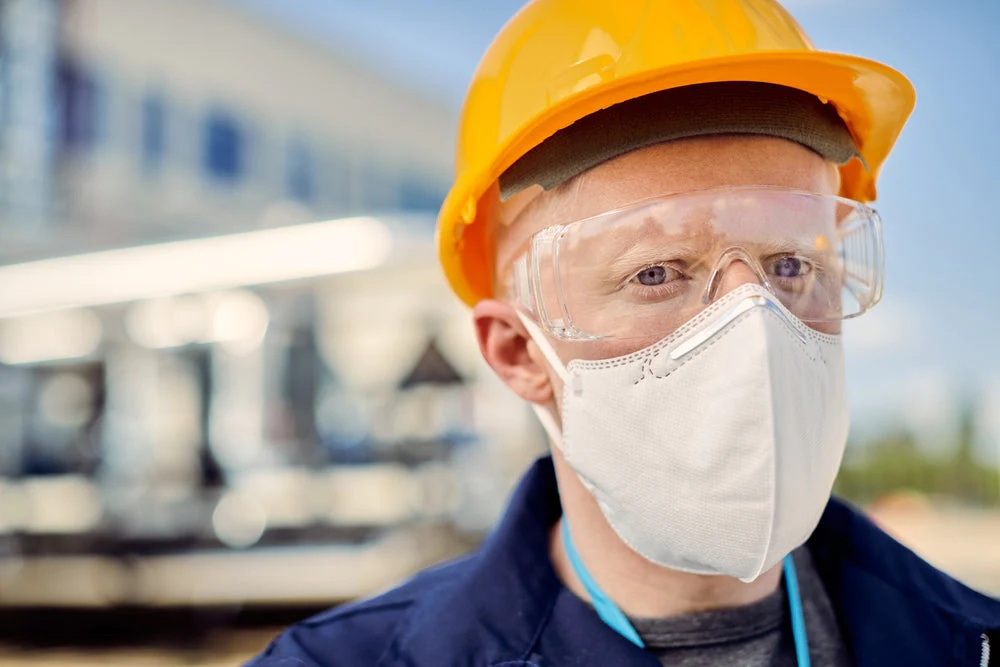safety_goggles: (438, 167, 912, 370)
